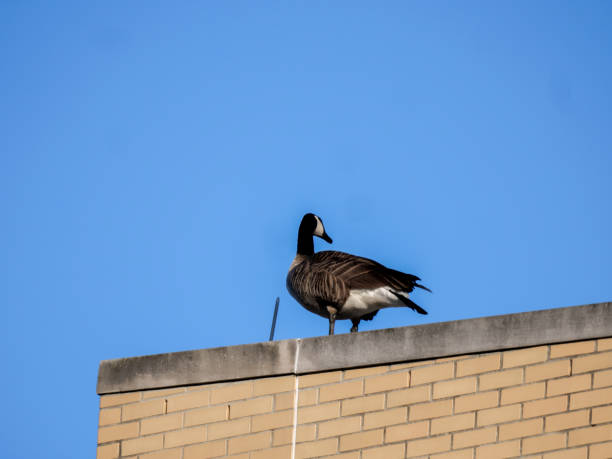goose: (282, 210, 434, 340)
